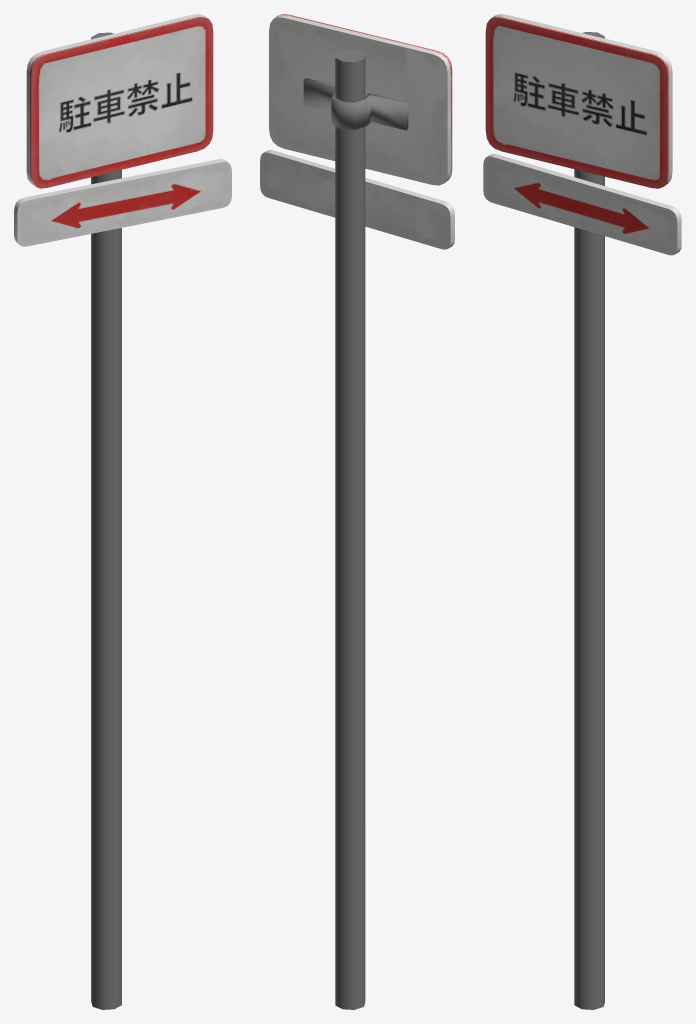
The model's file is SM_sign_traffic_016.fbx.
3 views of the same model, side by side, from view 1: azimuth 30°, elevation 25°; view 2: azimuth 150°, elevation 25°; view 3: azimuth 330°, elevation 25° (orthographic).
Visible parts, largest first — view 1: Object32704; view 2: Object32704; view 3: Object32704.
Boxes of the visible parts, <box> form: Object32704: <box>14,14,231,1009</box>; Object32704: <box>260,14,454,1009</box>; Object32704: <box>483,14,681,1009</box>.
Bounding box in the file's own units: 19.03 × 86.79 × 4.66.
